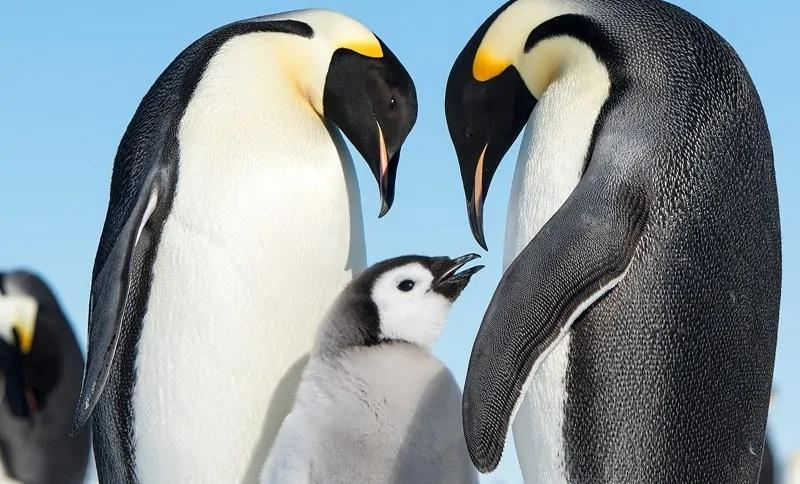emporer: (429, 0, 798, 484), (64, 4, 428, 484)
